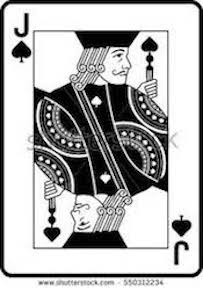JackOfSpades: (1, 2, 203, 278)
